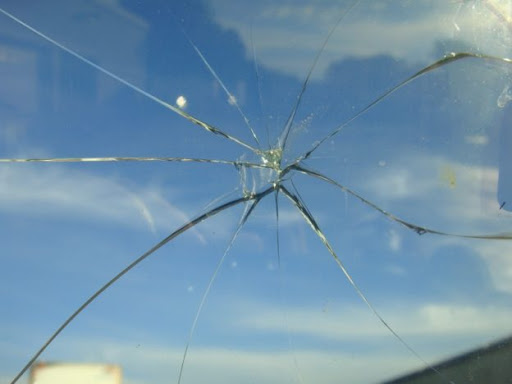crack: (48, 52, 491, 352)
